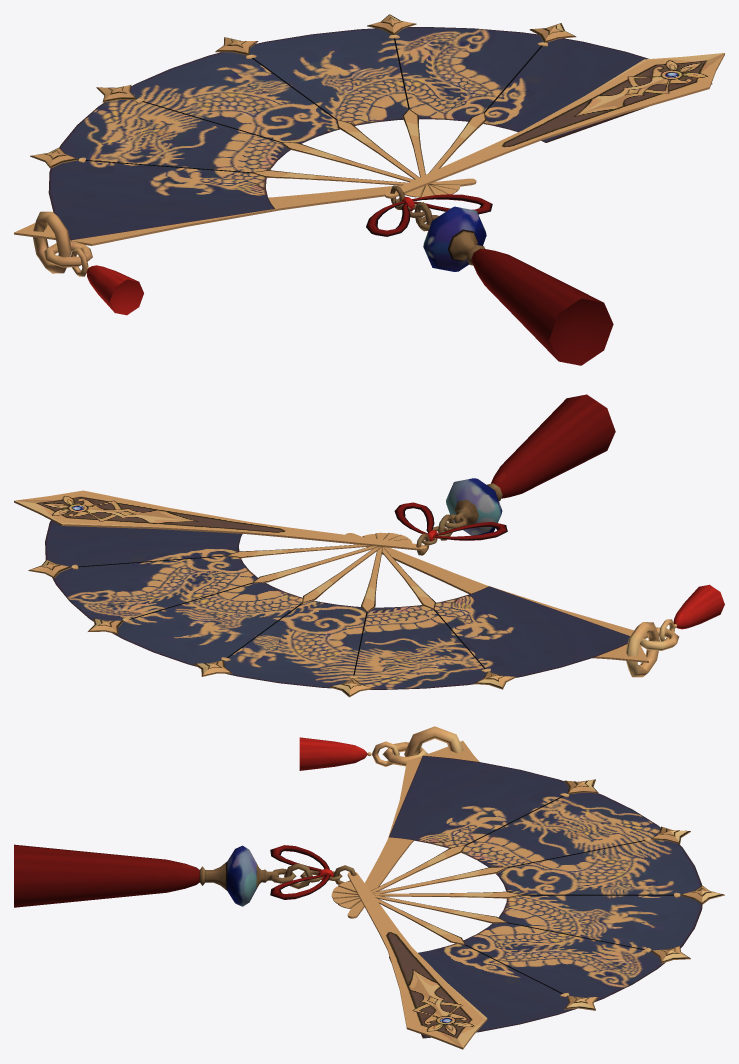
The model's file is CH_Honglan_WP_Base.glb.
3 renders of one model, top to bottom at view 1: azimuth 30°, elevation 25°; view 2: azimuth 150°, elevation 25°; view 3: azimuth 270°, elevation 25°, orthographic. The views are drawn at different scales.
Visible parts, largest first — view 1: CH_Honglan_WP_Base; view 2: CH_Honglan_WP_Base; view 3: CH_Honglan_WP_Base.
Part boxes in pixels (bbox=[...]): CH_Honglan_WP_Base: bbox=[14, 14, 724, 365]; CH_Honglan_WP_Base: bbox=[14, 394, 724, 697]; CH_Honglan_WP_Base: bbox=[14, 726, 724, 1049].
Bounding box in the file's own units: 0.5079 × 0.0504 × 0.4877.
1 material, 1 textured.
